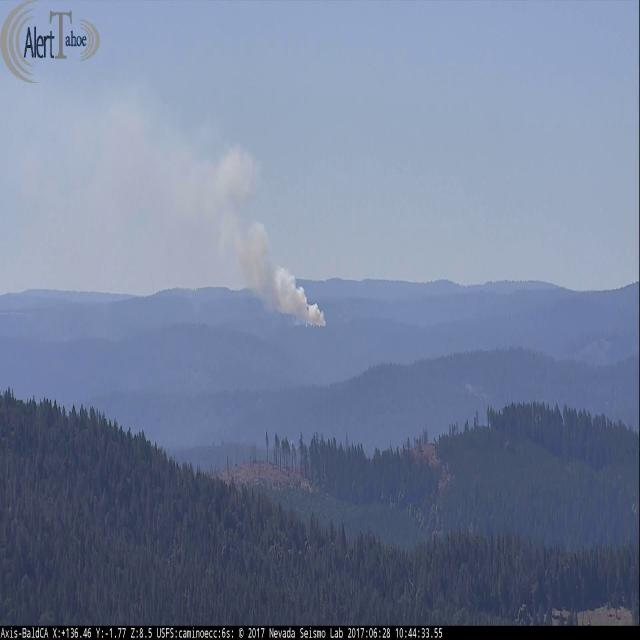smoke: (73, 75, 328, 328)
